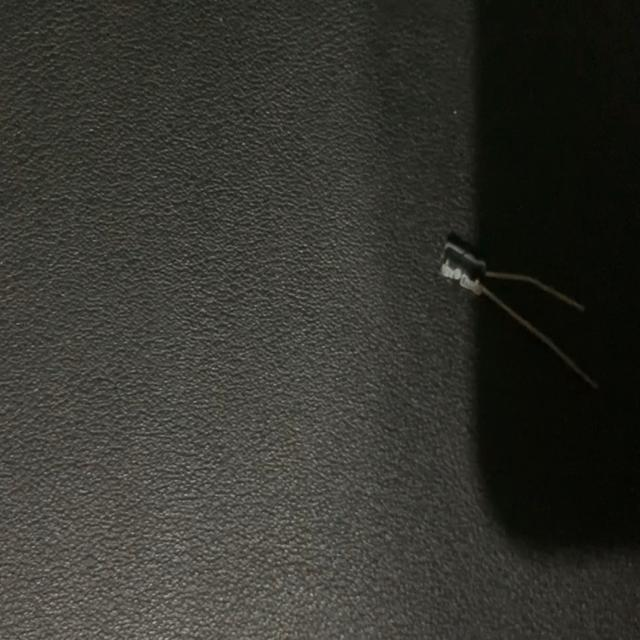capacitor: (442, 240, 597, 393)
